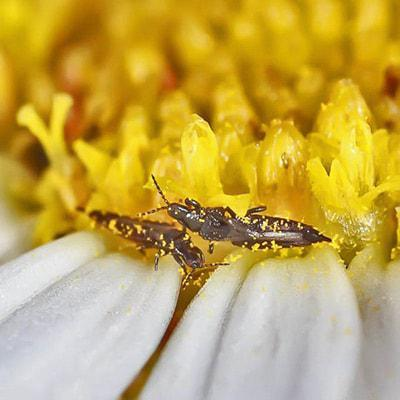tiny_pests: (136, 166, 364, 253), (52, 198, 214, 290)
